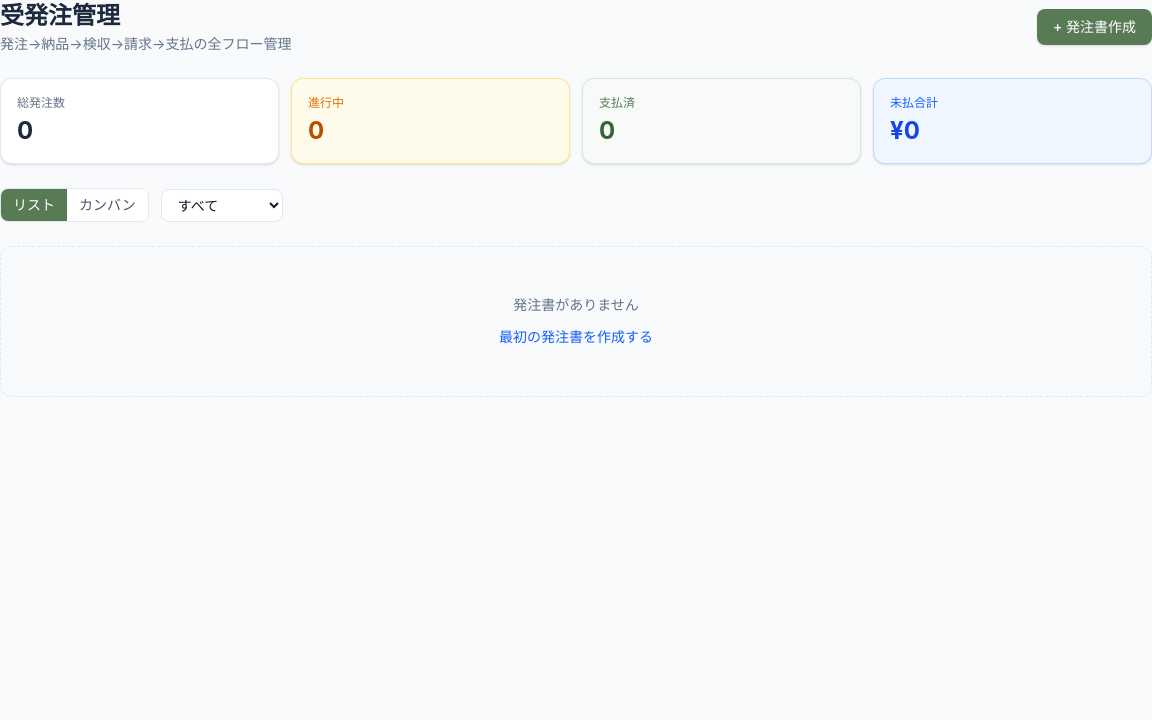
Scenario: OrderManagementPage — ItemRow aria-labels › second ItemRow gets distinct aria-labels after adding a row
Click the button "+ 発注書作成".
click(1094, 27)  # box [1037, 9, 1151, 45]
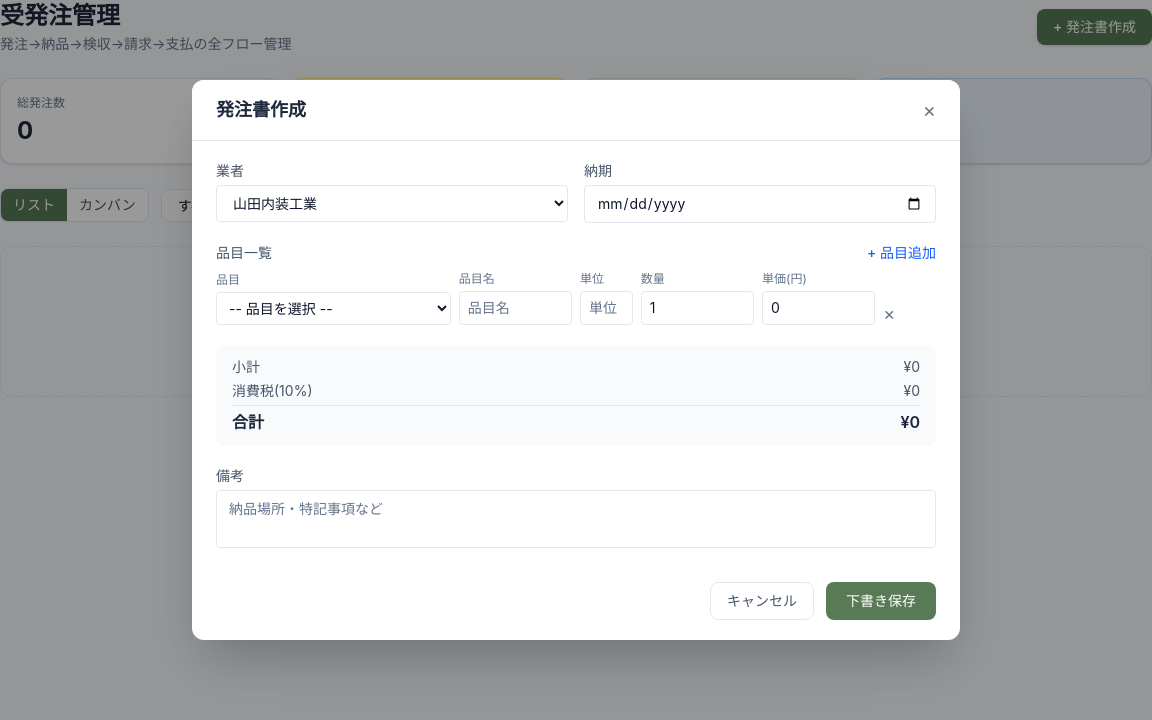
Now the heading "発注書作成" is shown, box [216, 96, 306, 124]
Click the button "+ 品目追加".
click(901, 253)  # box [867, 243, 936, 263]
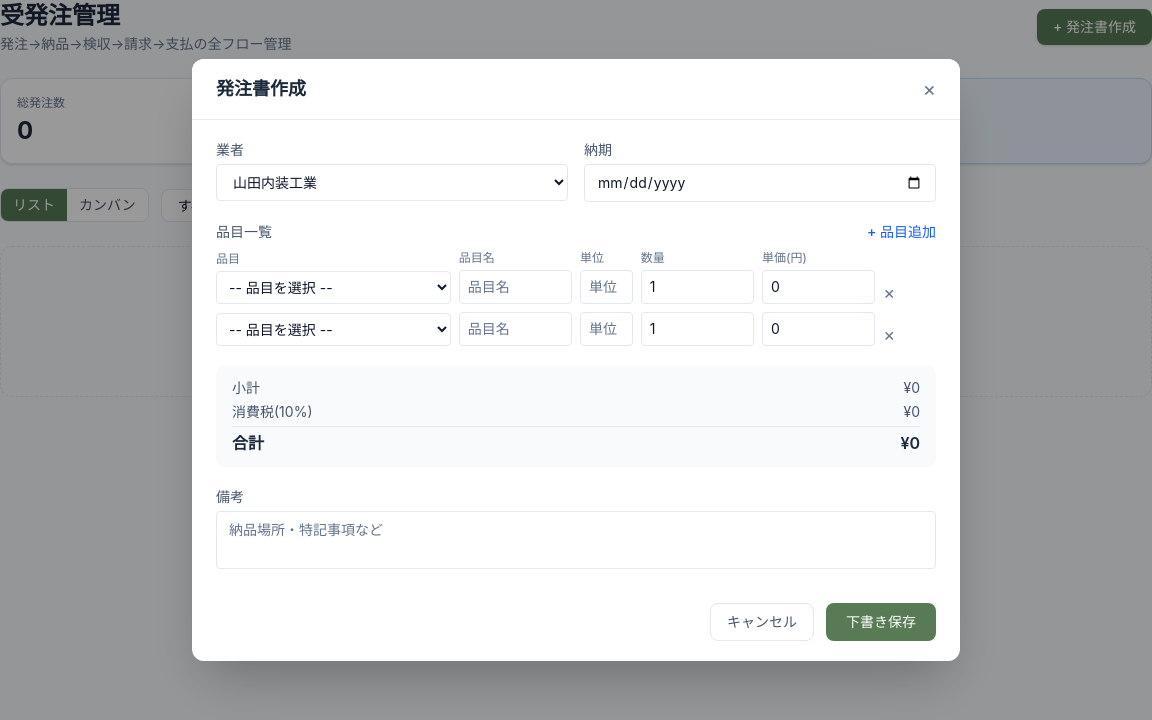
Now the number of number fields named "数量" is 2, box [641, 270, 754, 304]; [641, 312, 754, 346]
